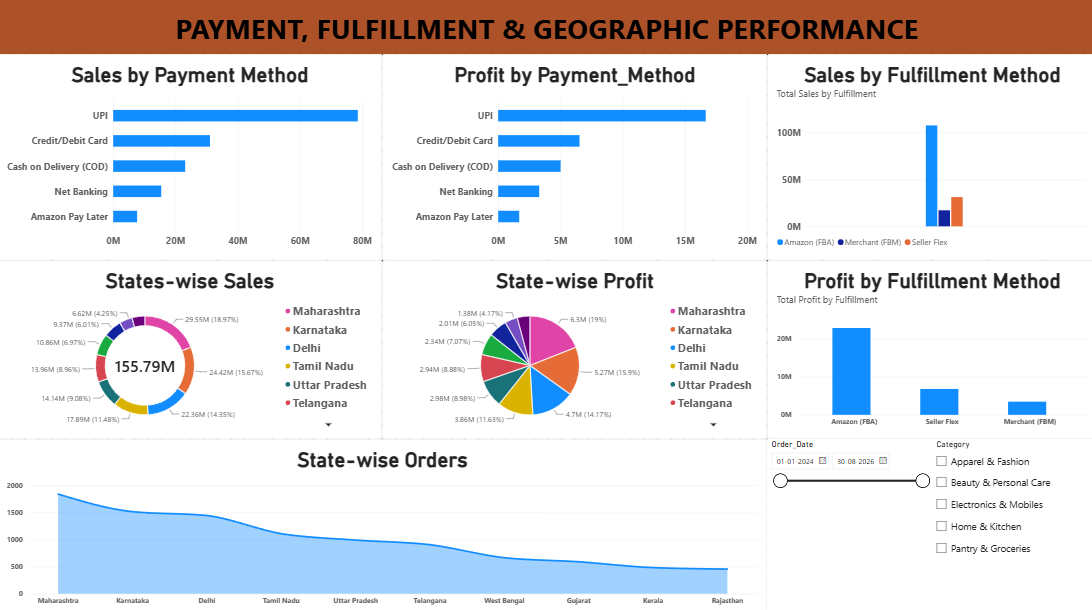

What the dashboard file says about the page in this screenshot:
{"tool":"powerbi","page":{"name":"Payment,Fulfillment & Geographic Performance","canvas":[1920,1080],"ordinal":3},"visuals":[{"type":"textbox","box":[0,0,1920,96],"z":0},{"type":"clusteredBarChart","title":" Sales by Payment Method","fields":{"Category":["Sheet1.Payment_Method"],"Y":["Sheet1.Total Sales"]},"box":[0,96,672,360],"z":1},{"type":"clusteredBarChart","title":"Profit by Payment_Method","fields":{"Category":["Sheet1.Payment_Method"],"Y":["Sheet1.Total Profit"]},"box":[672,96,672,360],"z":2},{"type":"clusteredColumnChart","title":"Sales by Fulfillment Method","fields":{"Series":["Sheet1.Fulfillment"],"Y":["Sheet1.Total Sales"]},"box":[1344,96,576,360],"z":3},{"type":"clusteredColumnChart","title":"Profit by Fulfillment Method","fields":{"Category":["Sheet1.Fulfillment"],"Y":["Sheet1.Total Profit"]},"box":[1344,456,576,312],"z":4},{"type":"donutChart","title":" States-wise Sales","fields":{"Category":["Sheet1.Ship_State"],"Y":["Sheet1.Total Sales"]},"box":[0,456,672,312],"z":5},{"type":"pieChart","title":"State-wise Profit","fields":{"Category":["Sheet1.Ship_State"],"Y":["Sheet1.Total Profit"]},"box":[672,456,672,312],"z":6},{"type":"areaChart","title":"State-wise Orders","fields":{"Category":["Sheet1.Ship_State"],"Y":["Sheet1.Total Orders"]},"box":[0,768,1344,312],"z":7},{"type":"slicer","fields":{"Values":["Sheet1.Order_Date"]},"box":[1344,768,288,312],"z":8},{"type":"slicer","fields":{"Values":["Sheet1.Category"]},"box":[1632,768,288,312],"z":9}]}

Visuals, with their boxes in screenshot pixels (x1, y1, x2, y2), scaled from the page's 1920x1080 canvas onto the 1092x610 screenshot:
textbox: BBox(0, 0, 1091, 54)
" Sales by Payment Method" clusteredBarChart: BBox(0, 54, 382, 258)
"Profit by Payment_Method" clusteredBarChart: BBox(382, 54, 764, 258)
"Sales by Fulfillment Method" clusteredColumnChart: BBox(764, 54, 1091, 258)
"Profit by Fulfillment Method" clusteredColumnChart: BBox(764, 258, 1091, 434)
" States-wise Sales" donutChart: BBox(0, 258, 382, 434)
"State-wise Profit" pieChart: BBox(382, 258, 764, 434)
"State-wise Orders" areaChart: BBox(0, 434, 764, 609)
slicer - Sheet1.Order_Date: BBox(764, 434, 928, 609)
slicer - Sheet1.Category: BBox(928, 434, 1091, 609)
